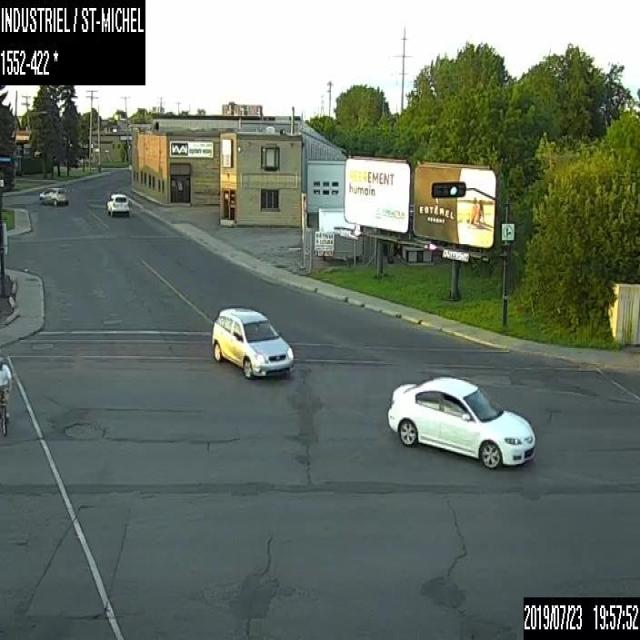cyclist: (0, 356, 10, 437)
vehicle: (386, 376, 536, 468), (211, 307, 292, 377), (106, 192, 129, 215), (38, 187, 66, 204)
